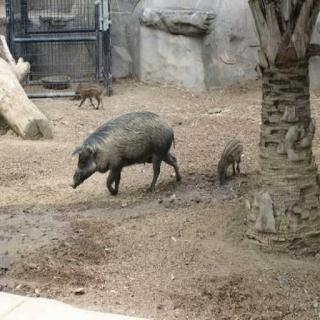Pig: (62, 104, 193, 228), (206, 129, 262, 208), (59, 67, 111, 114)
